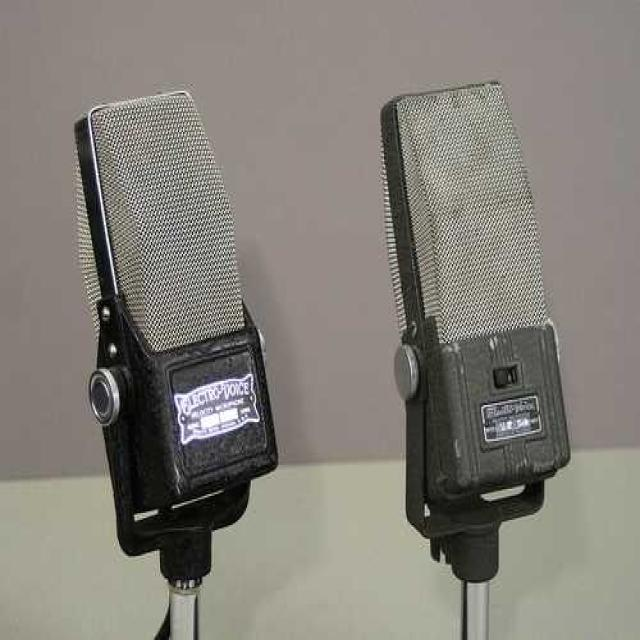microphone: (66, 89, 282, 521), (388, 74, 583, 522)
